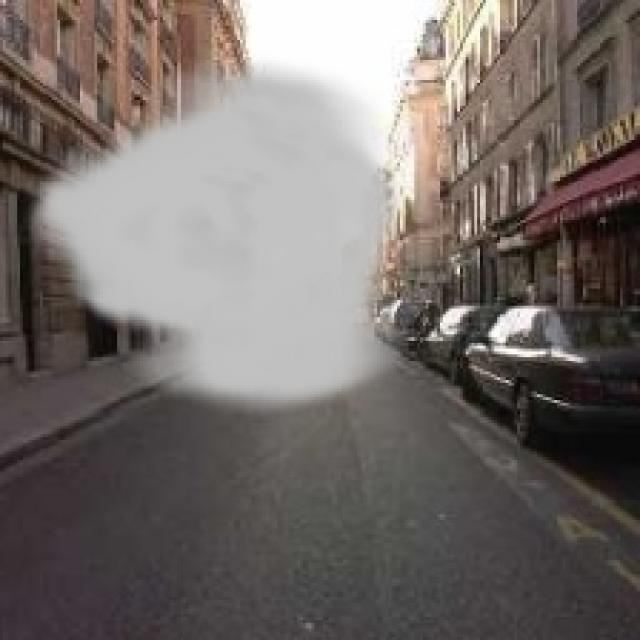Smoke: (22, 52, 408, 414)
